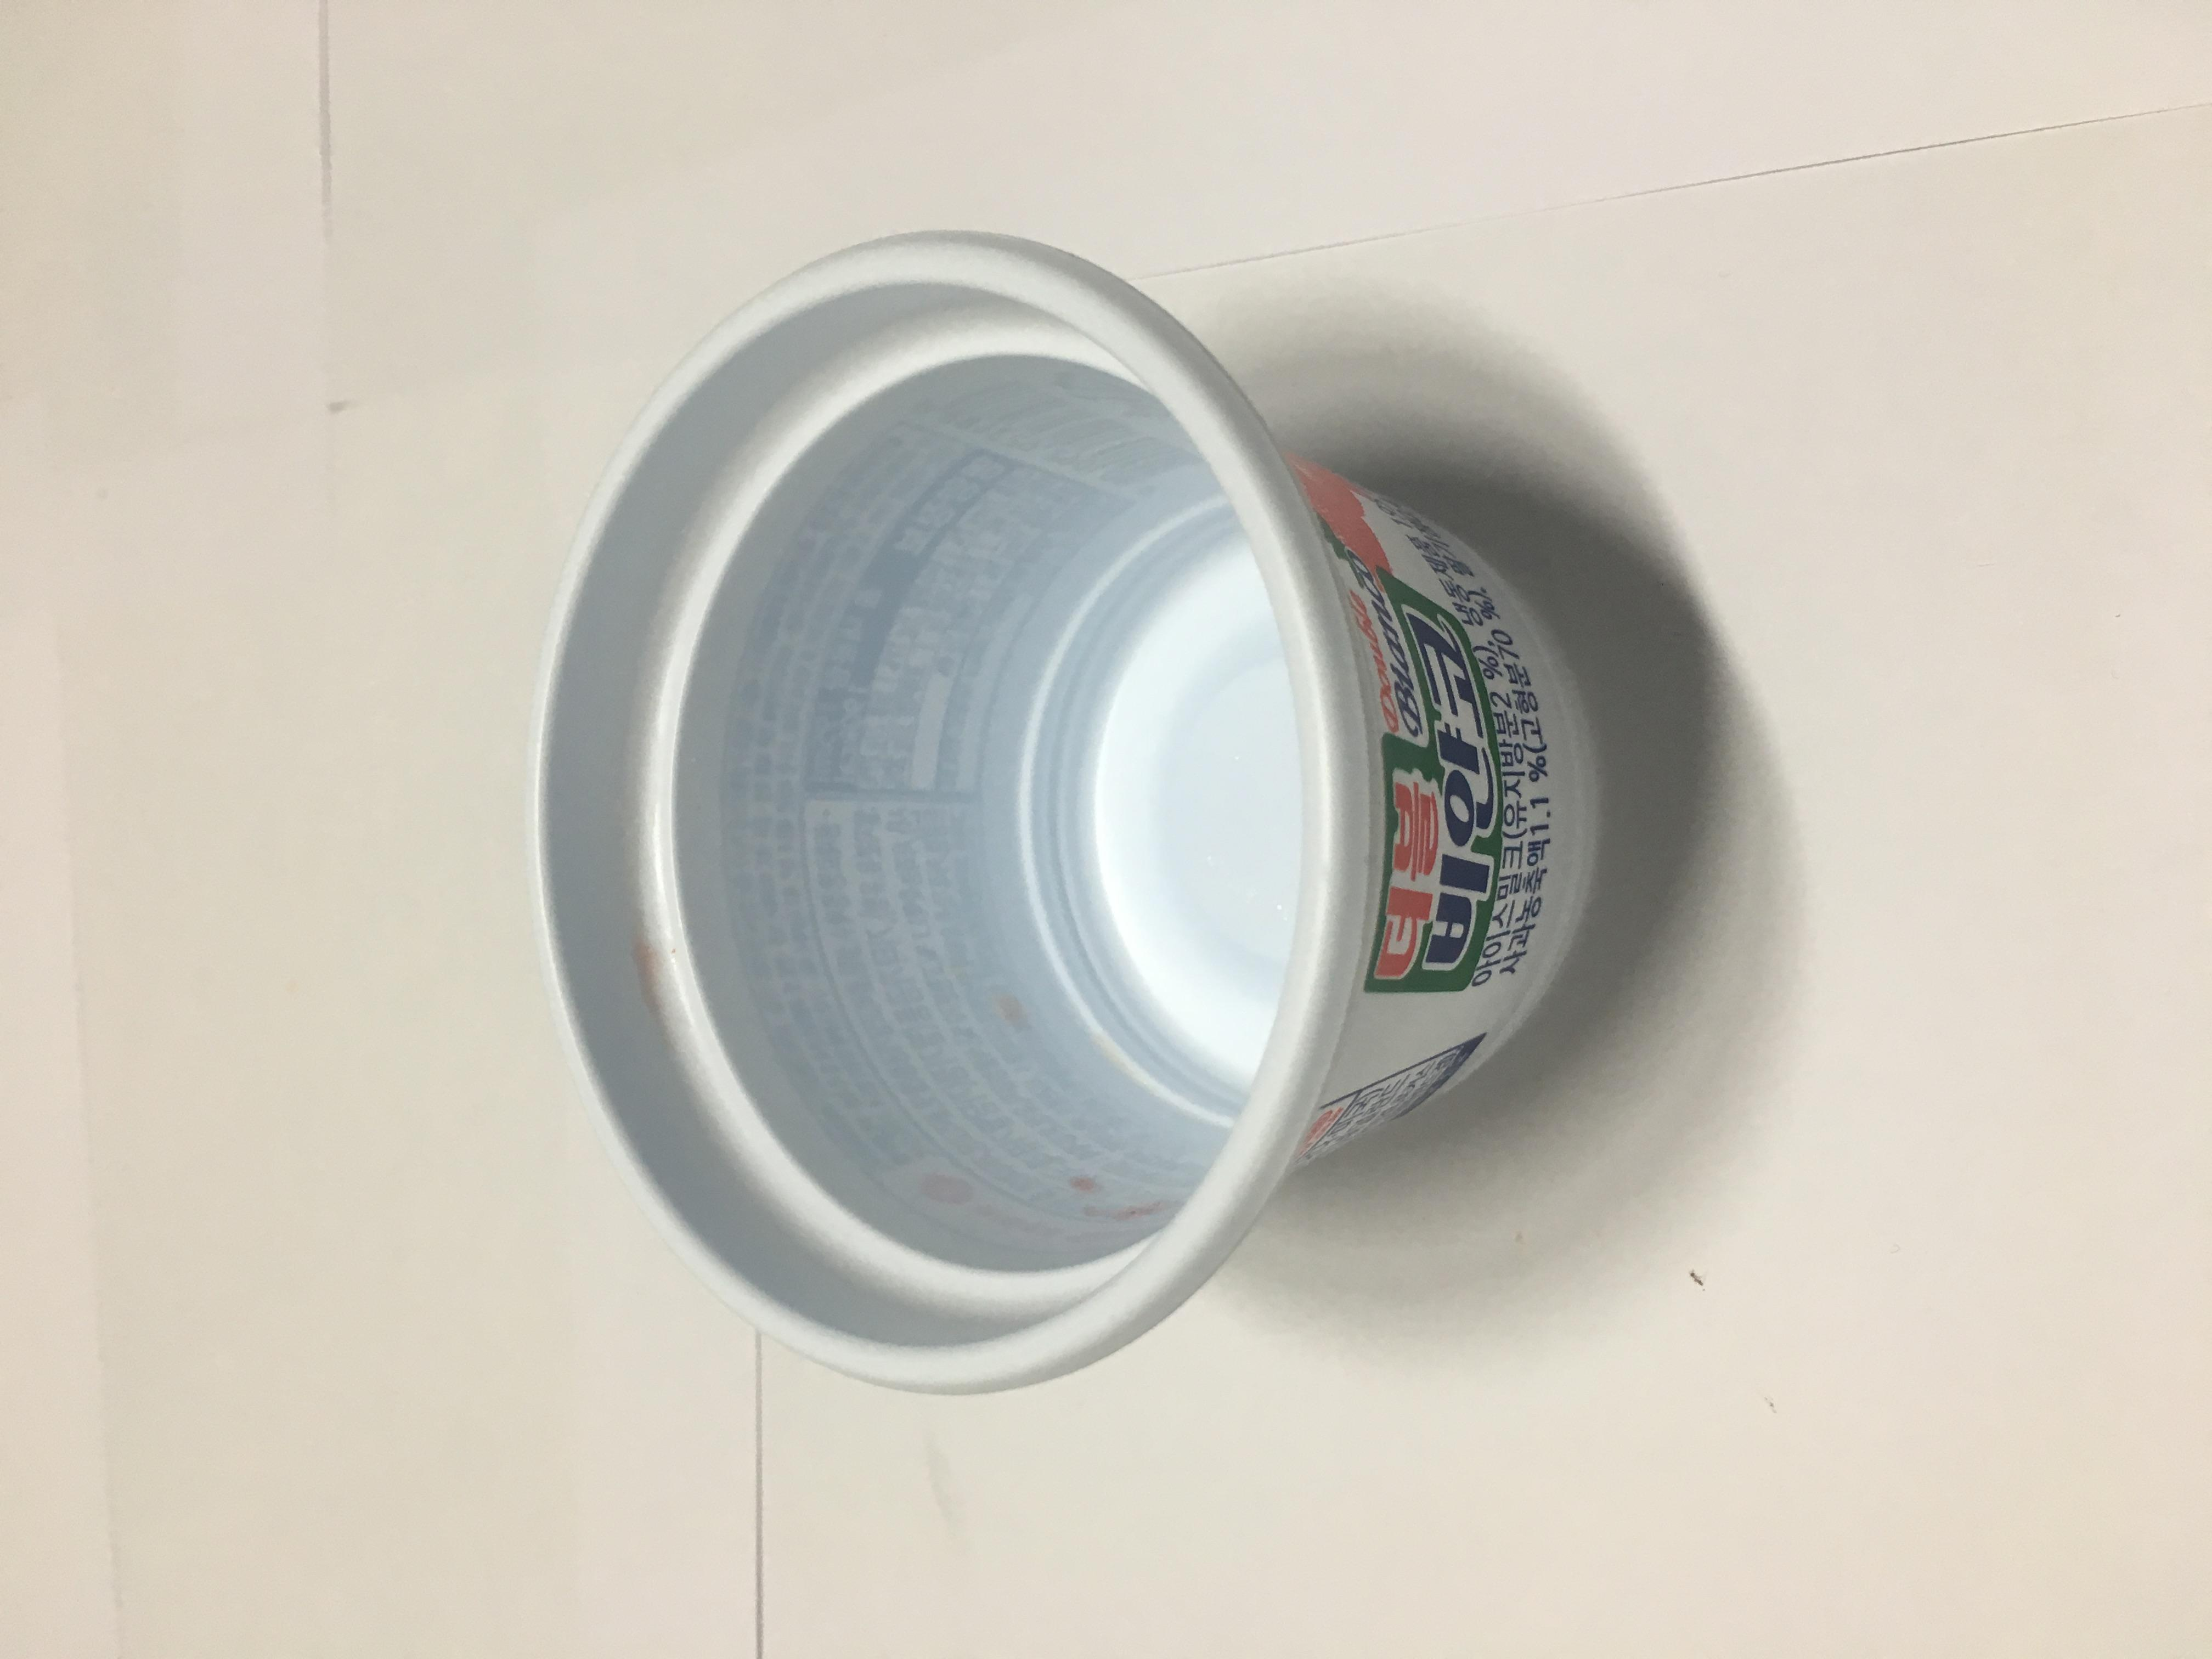bottle: (1104, 366, 1139, 1206)
